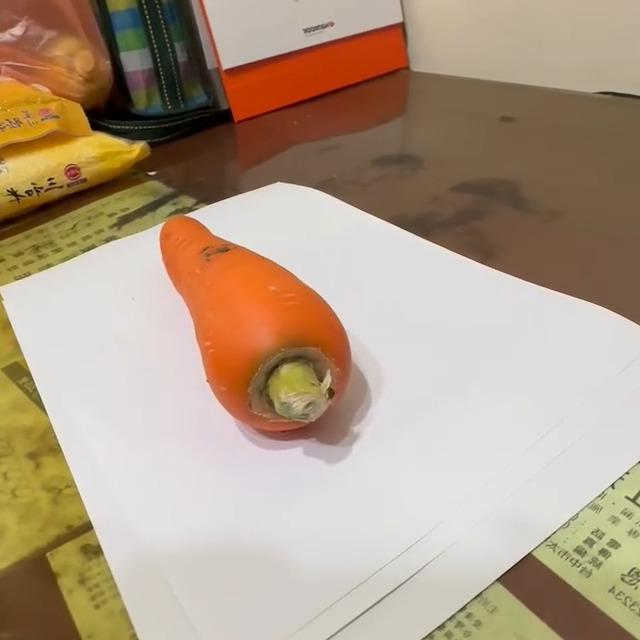carrot: (159, 214, 355, 438)
